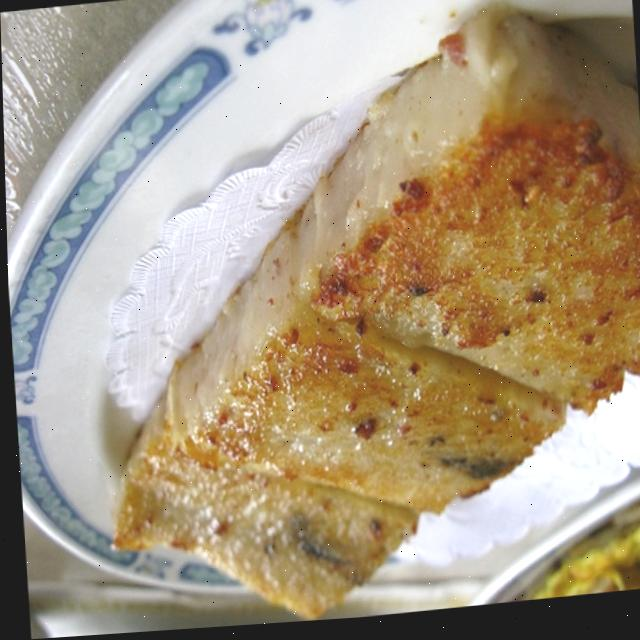蛋糕甜品: (49, 0, 640, 637)
